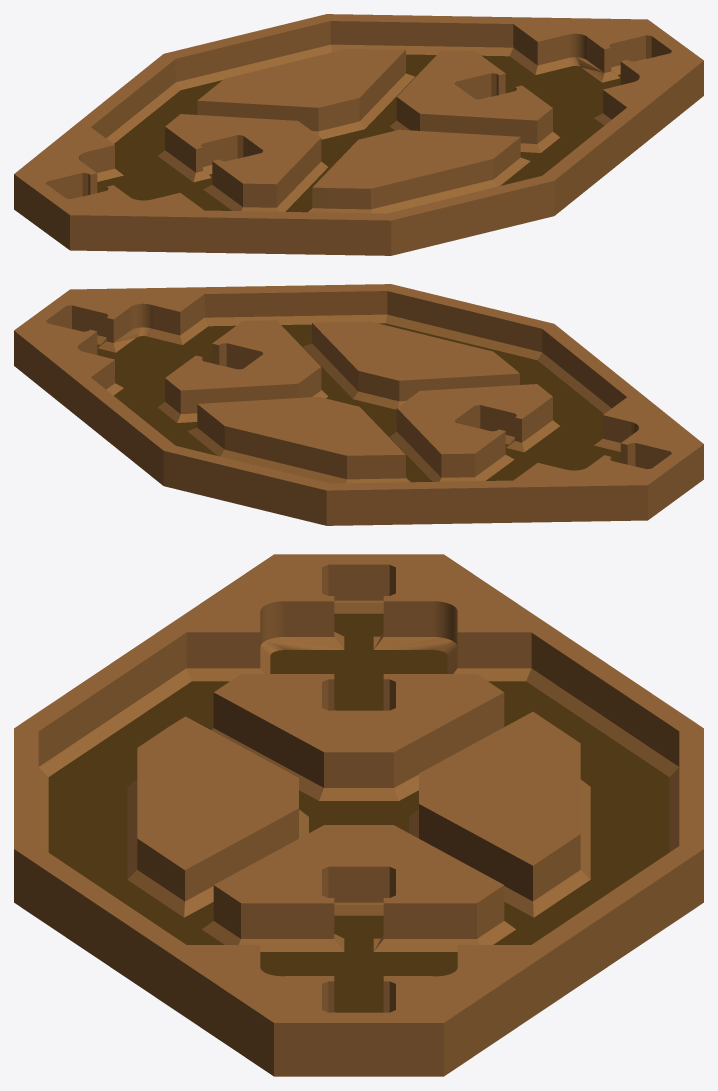
File: Arena2Test V3.fbx
3 renders of one model, top to bottom at view 1: azimuth 30°, elevation 25°; view 2: azimuth 150°, elevation 25°; view 3: azimuth 270°, elevation 25°, orthographic. The views are drawn at different scales.
Parts seen in each view (by area): view 1: Model; view 2: Model; view 3: Model.
Boxes of the visible parts, x1=… form: Model: x1=14, y1=14, x2=703, y2=255; Model: x1=14, y1=284, x2=703, y2=525; Model: x1=14, y1=554, x2=703, y2=1076.
Size of the model in its own units: 225 by 12 by 140.
